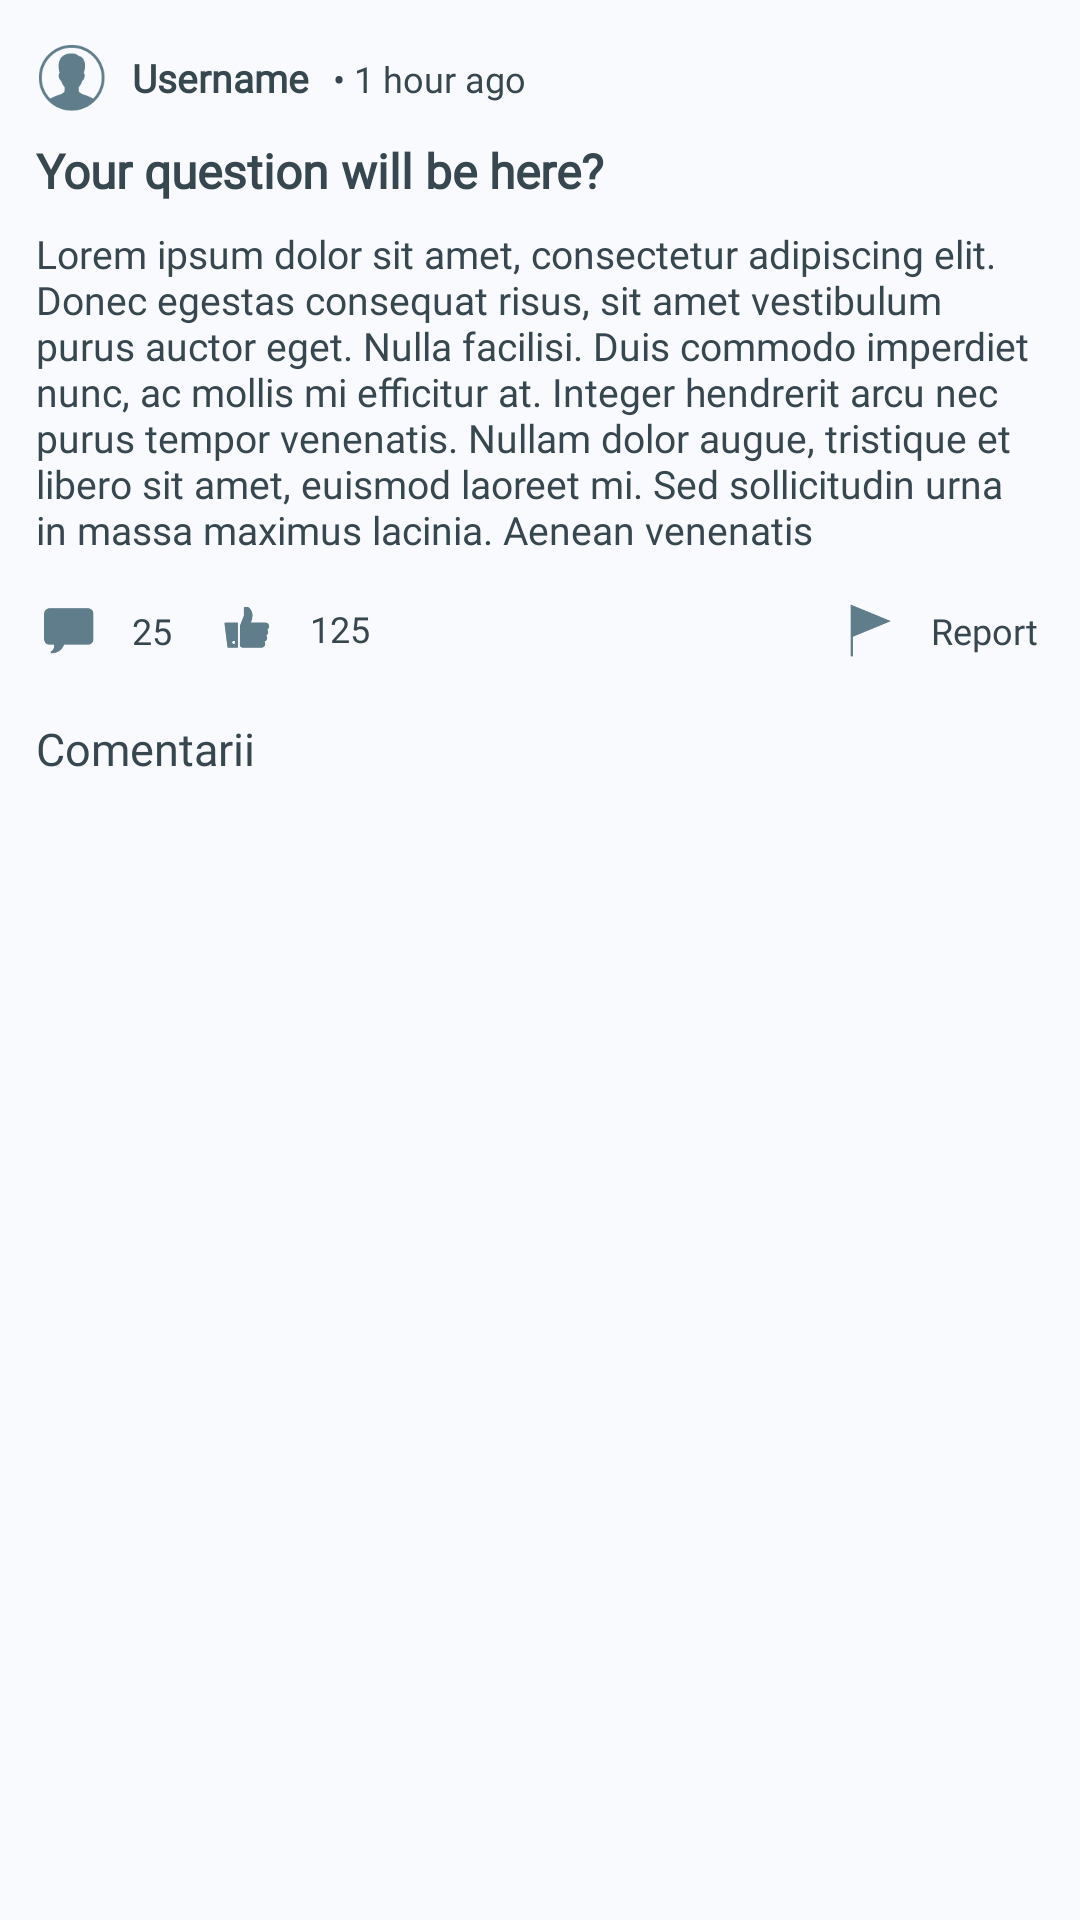

Where icons sit on this 1080×1920 app screen, as (x1, y1, x2, y2):
comment: (44, 608, 94, 654)
holder user: (39, 45, 105, 111)
like: (224, 607, 269, 648)
